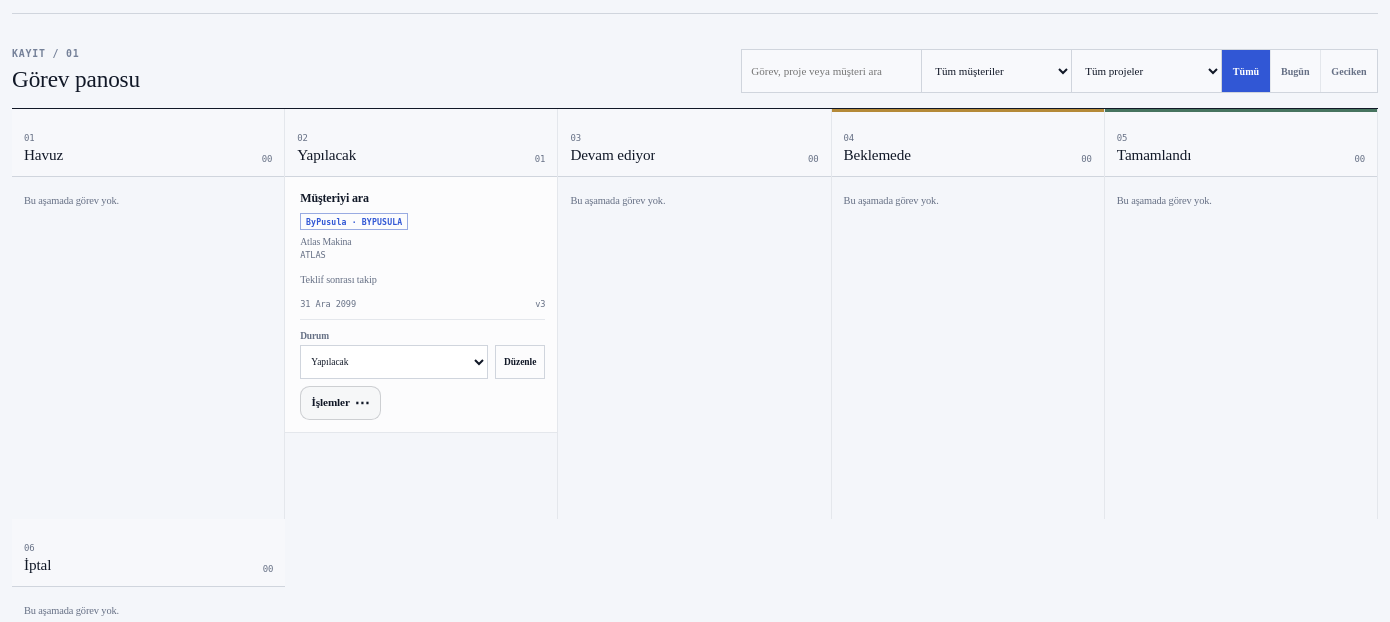
Test: TasksWorkspace › keeps the editor version snapshot so a concurrent board update is fenced
Click the button with aria-label "Müşteriyi ara görevini düzenle": (520, 362) [495,345,545,379]
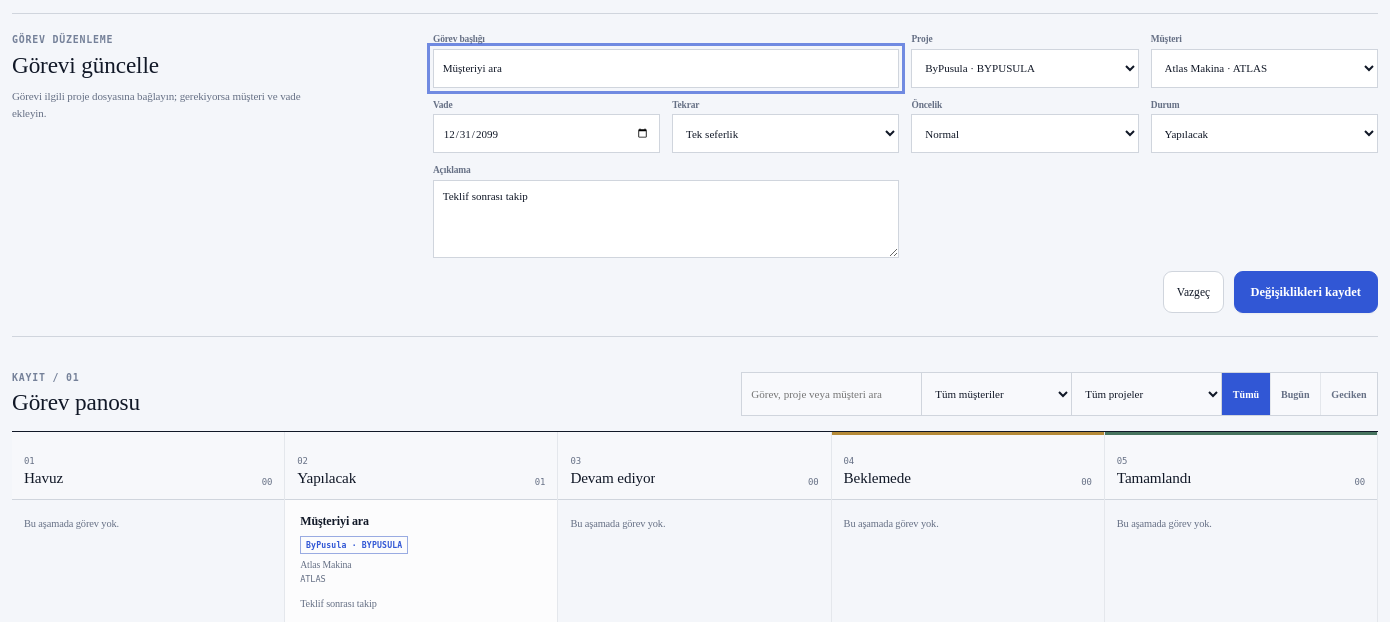
Replace the text in the field labelled "Görev başlığı" with "Müşteriyi tekrar ara": (666, 68) [433,49,899,88]
(page scrolled)
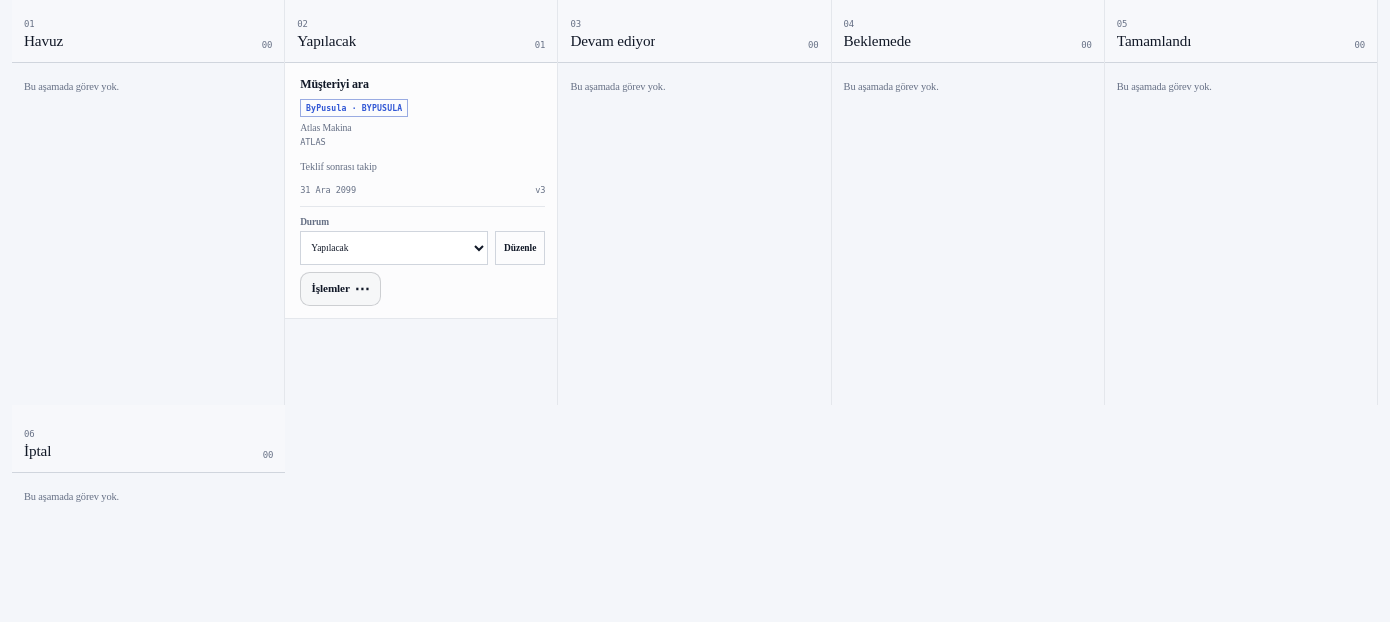
Select "Devam ediyor" in the dropdown named "Müşteriyi ara durumu": (394, 248) [300,231,488,265]
(page scrolled)
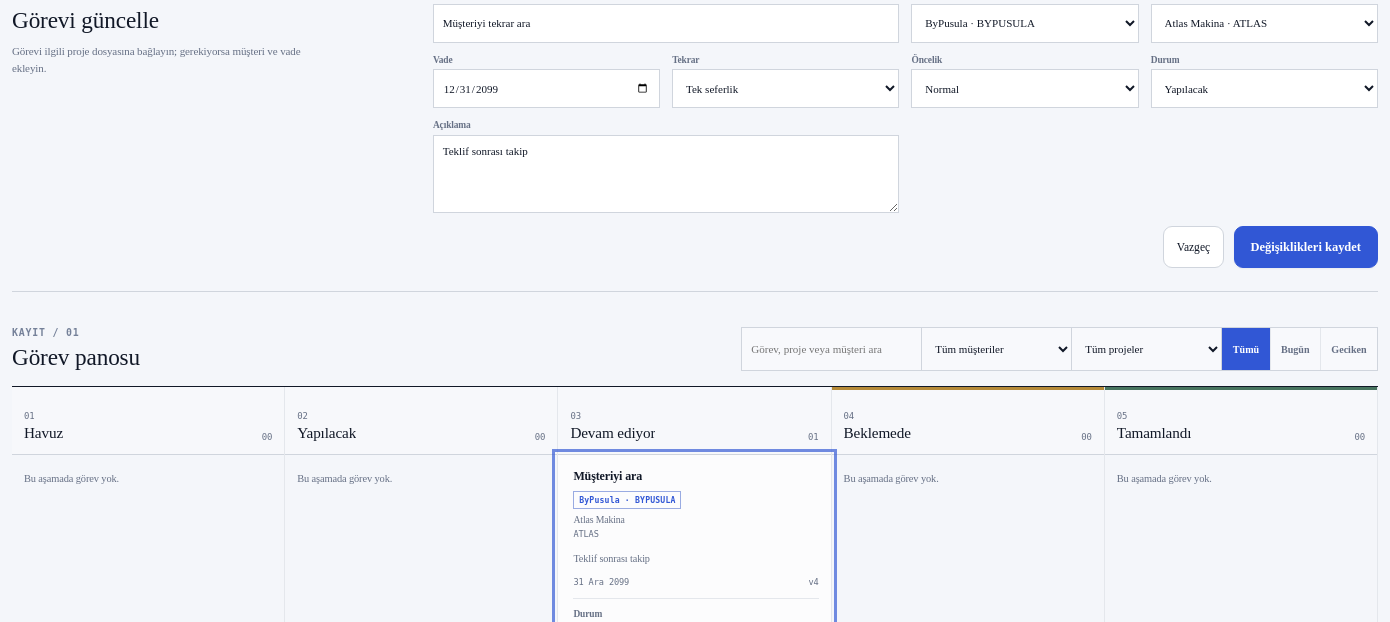
Click the button "Değişiklikleri kaydet": (1306, 247) [1234,226,1378,268]
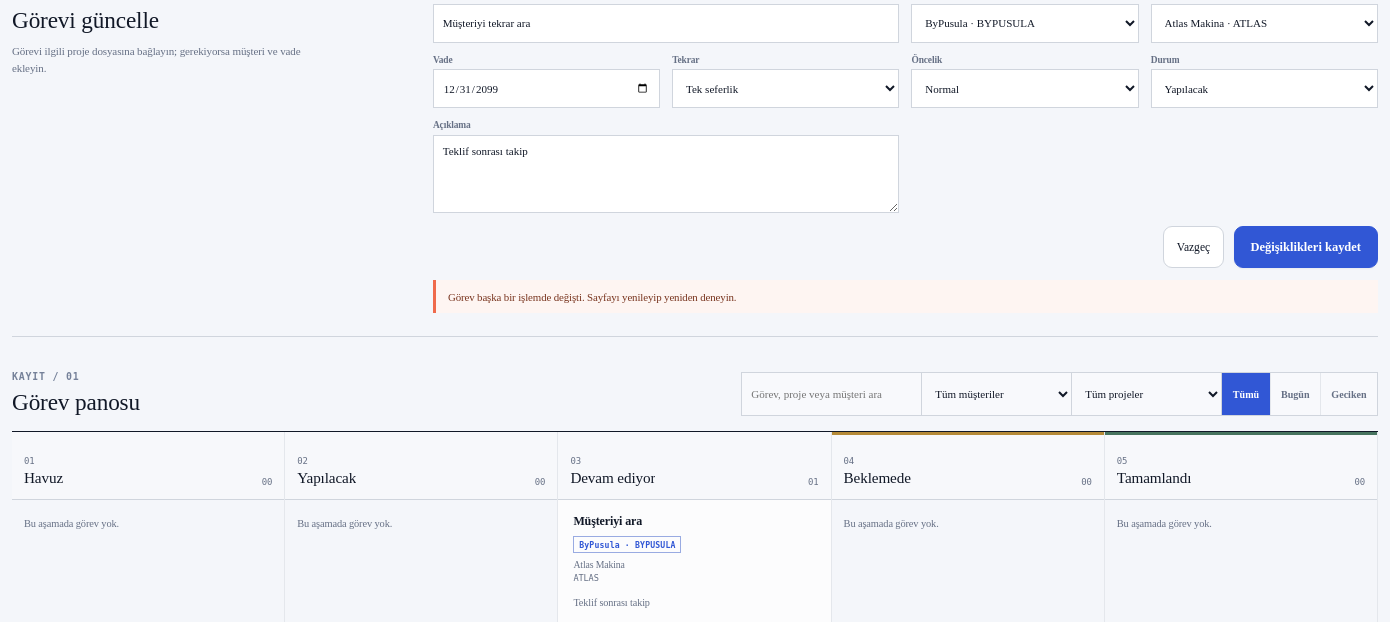
Expected: the heading "Görevi güncelle" is shown, [12,7,159,33]
Expected: the message reads "Görev başka bir işlemde değişti. Sayfayı yenileyip yeniden deneyin.", [448,290,736,302]
